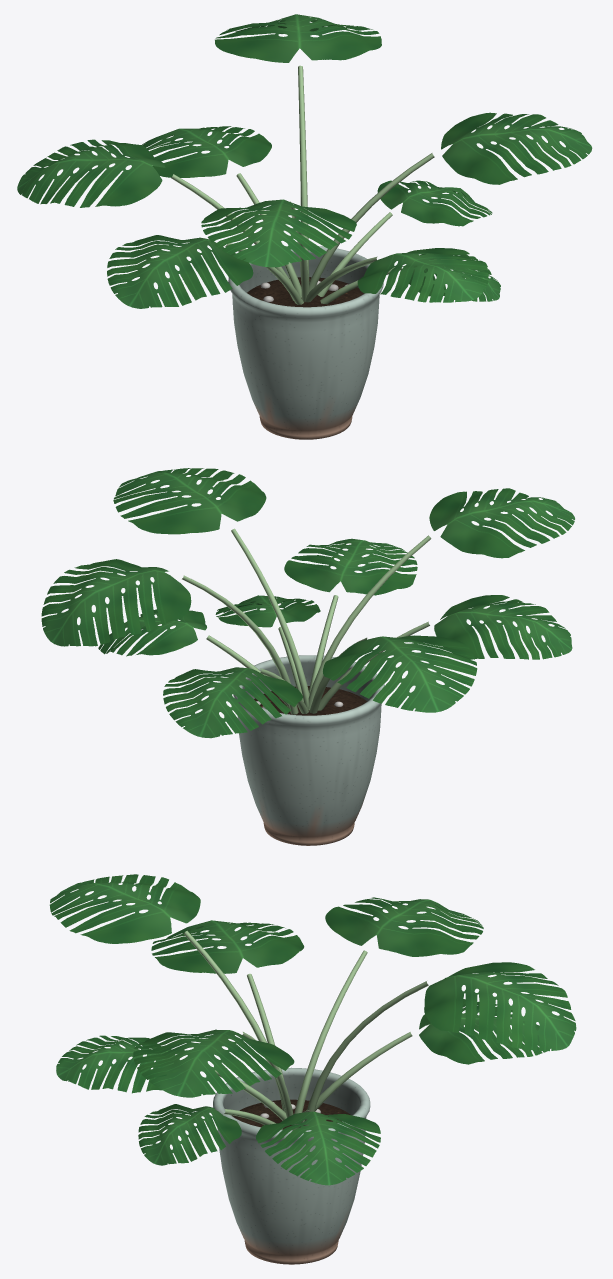
The model's file is decor_vaso_costela.glb.
3 renders of one model, top to bottom at view 1: azimuth 30°, elevation 25°; view 2: azimuth 150°, elevation 25°; view 3: azimuth 270°, elevation 25°, orthographic. The views are drawn at different scales.
Parts seen in each view (by area): view 1: planta, vaso; view 2: planta, vaso; view 3: planta, vaso.
Part boxes in pixels (x1=…): planta: x1=17, y1=14, x2=592, y2=308; vaso: x1=228, y1=246, x2=383, y2=439; planta: x1=41, y1=468, x2=574, y2=738; vaso: x1=233, y1=655, x2=384, y2=845; planta: x1=49, y1=874, x2=576, y2=1185; vaso: x1=213, y1=1067, x2=370, y2=1264.
Size of the model in its own units: 1.34 by 0.7838 by 1.34.
Materials: 4 (4 with a texture image).
